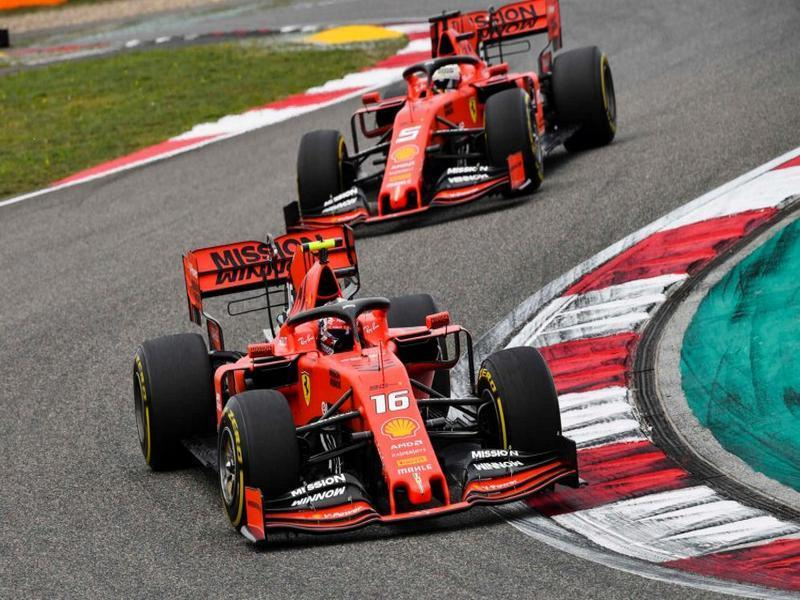f1: (117, 241, 670, 546), (286, 18, 636, 236)
